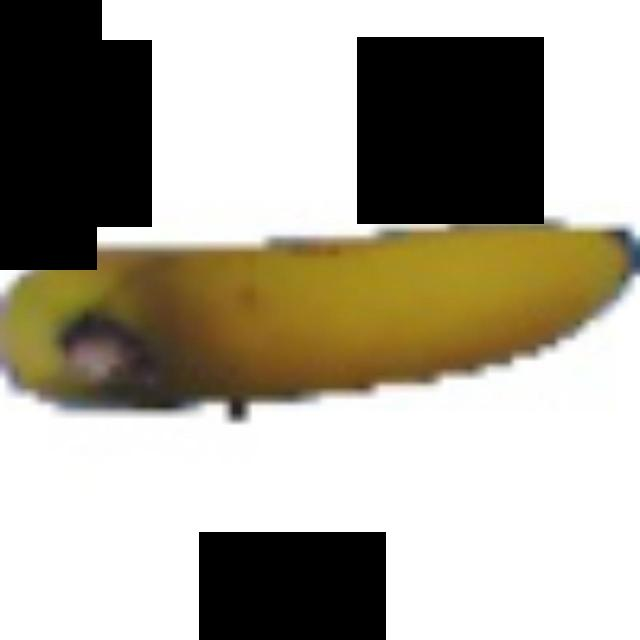banana: (2, 194, 640, 425)
